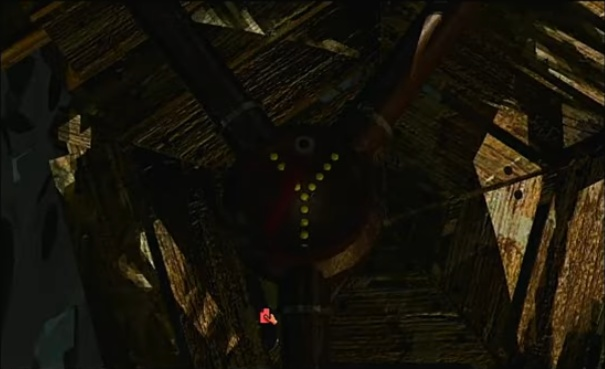Keep: (256, 304, 280, 327)
